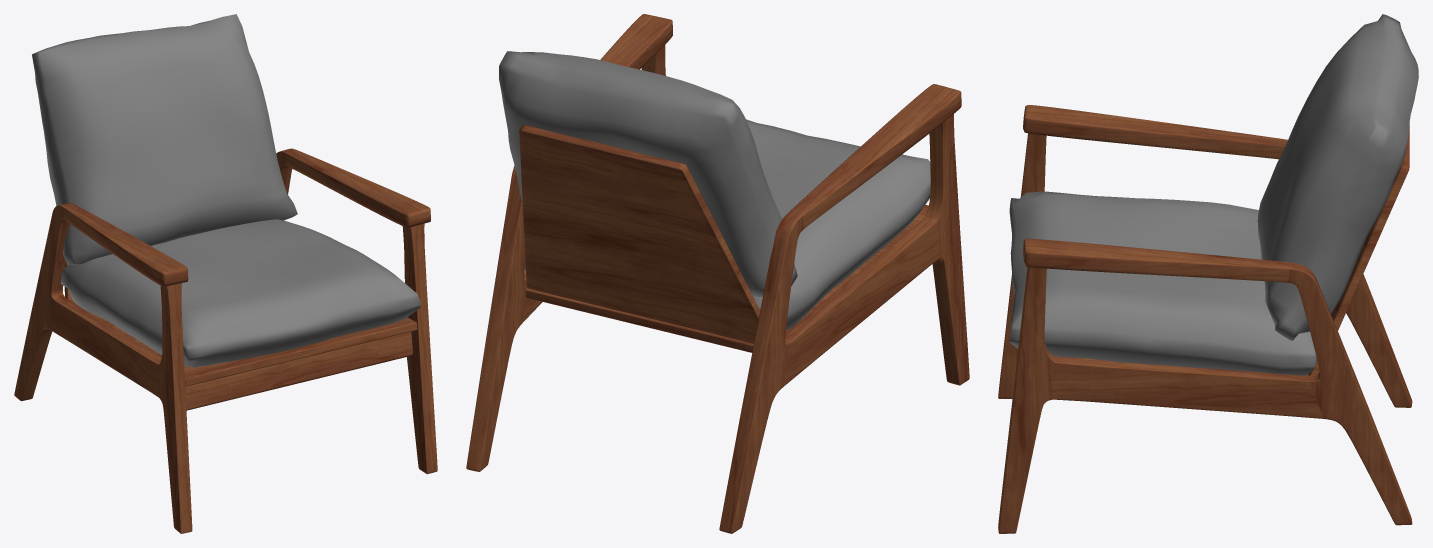
File: armchair.glb
The picture shows the model from 3 angles, left to right: view 1: azimuth 30°, elevation 25°; view 2: azimuth 150°, elevation 25°; view 3: azimuth 270°, elevation 25°; orthographic projection. The views are drawn at different scales.
Visible parts, largest first — view 1: armchair; view 2: armchair; view 3: armchair.
Boxes of the visible parts, x1,y1,x2,y2 form: armchair: [14, 14, 437, 533]; armchair: [466, 14, 969, 533]; armchair: [998, 14, 1418, 533].
Bounding box in the file's own units: 0.3333 × 0.4156 × 0.4008.
1 material, 1 textured.
